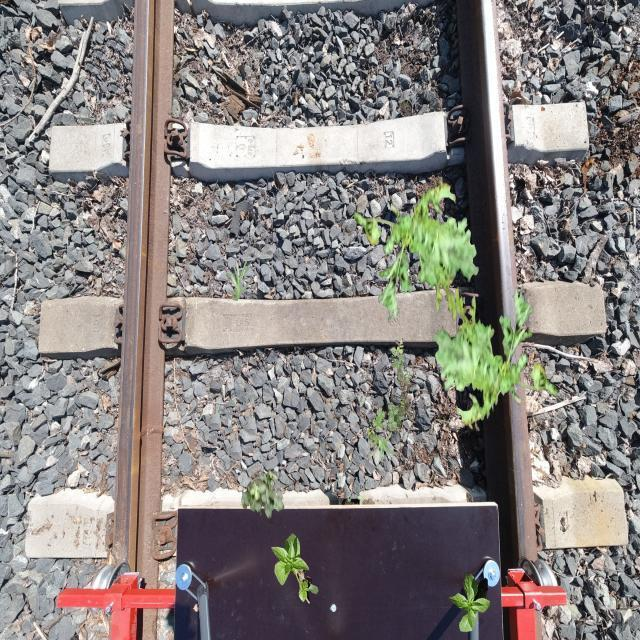Plant: (354, 177, 479, 324), (433, 285, 558, 432), (366, 338, 414, 442), (271, 533, 319, 604), (449, 572, 491, 632), (241, 469, 284, 519), (368, 431, 400, 466), (226, 259, 252, 301), (455, 351, 474, 376)
